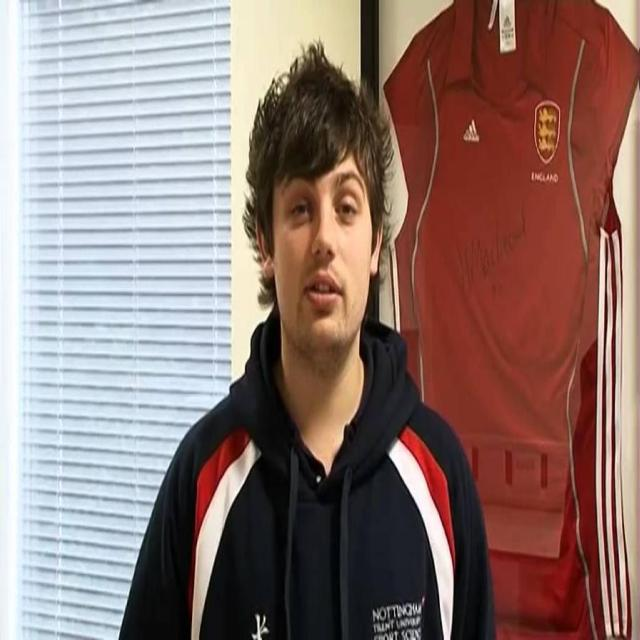Face: (262, 101, 381, 379)
